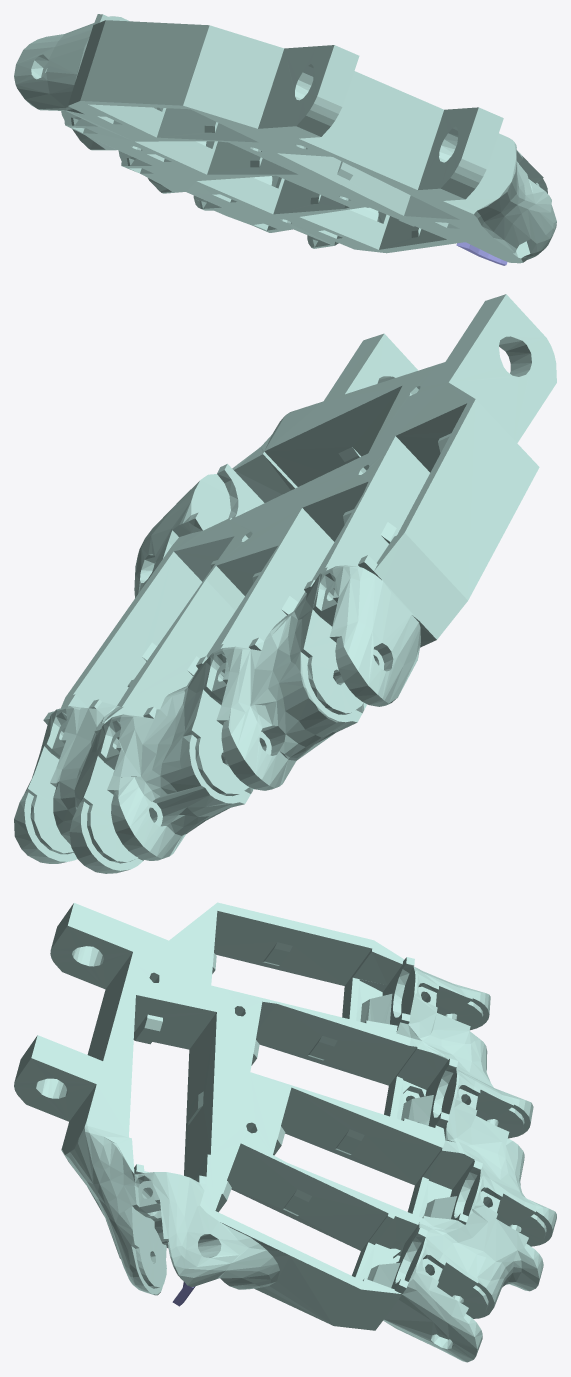
File: left_wrist_z_link_visual_3.obj.light.glb
The picture shows the model from 3 angles, top to bottom: view 1: azimuth 30°, elevation 25°; view 2: azimuth 150°, elevation 25°; view 3: azimuth 270°, elevation 25°; orthographic projection. The views are drawn at different scales.
Bounding box in the file's own units: 0.9963 × 0.9884 × 1.31.
